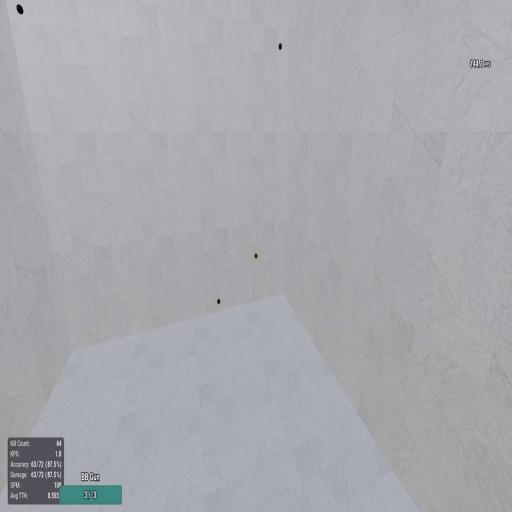Crosshair: (253, 252, 259, 261)
Target: (16, 3, 24, 16), (217, 297, 221, 304), (278, 43, 282, 50)
